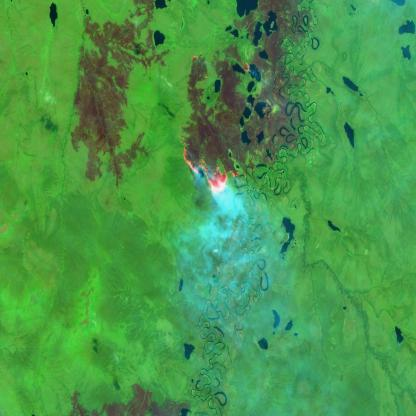fire: (173, 138, 257, 196), (239, 56, 255, 77)
